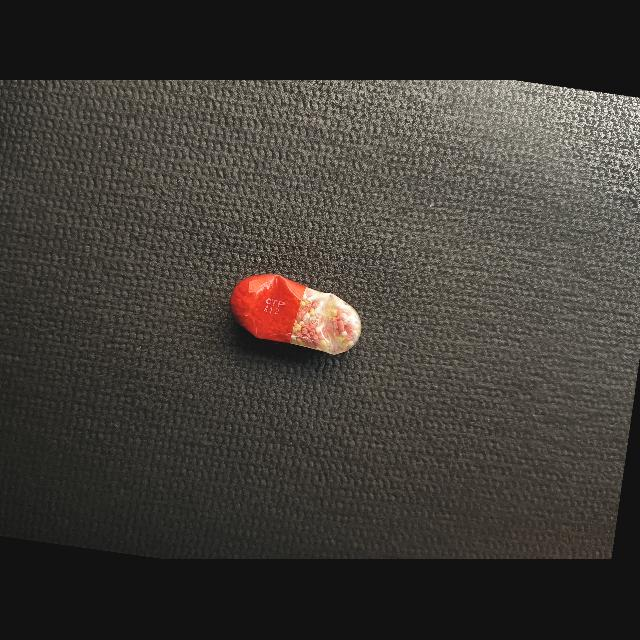Defective Capsule: (230, 275, 362, 355)
